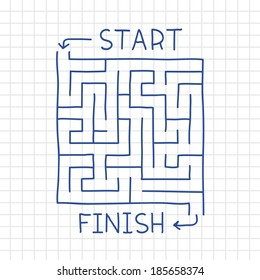maze: (54, 27, 208, 235)
